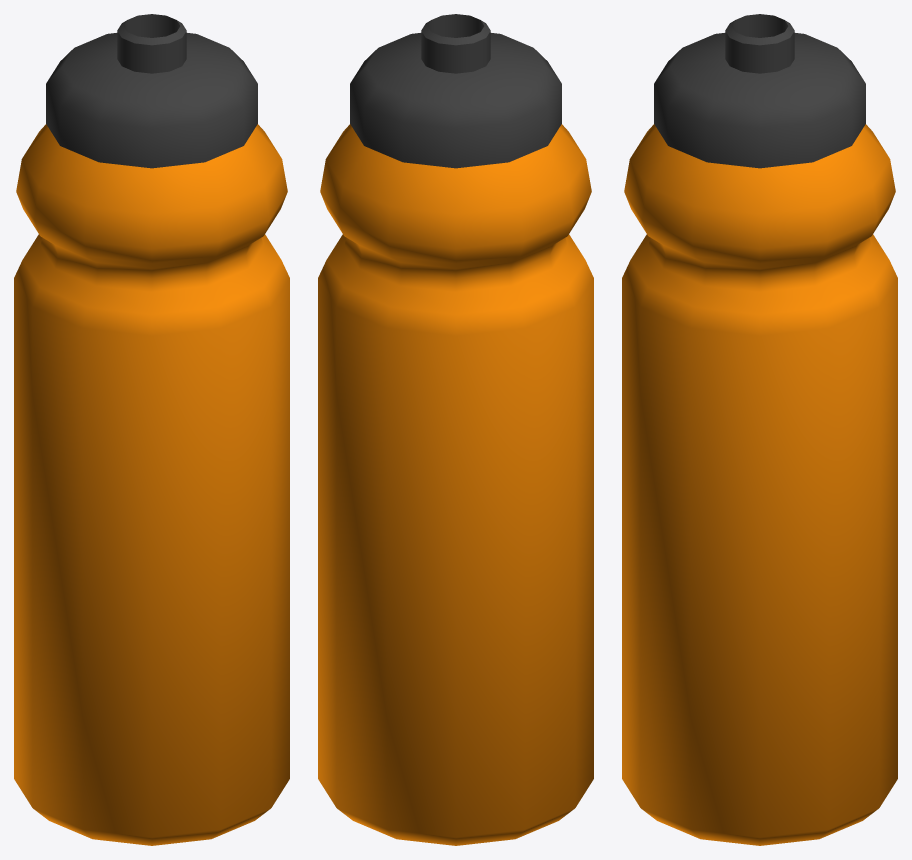
Rendered from Bottle05.fbx.
3 renders of one model, left to right at view 1: azimuth 30°, elevation 25°; view 2: azimuth 150°, elevation 25°; view 3: azimuth 270°, elevation 25°, orthographic.
Parts seen in each view (by area): view 1: Bottle05; view 2: Bottle05; view 3: Bottle05.
Boxes of the visible parts, x1,y1,x2,y2 form: Bottle05: [14, 14, 289, 845]; Bottle05: [318, 14, 593, 845]; Bottle05: [622, 14, 897, 845].
Bounding box in the file's own units: 7.26 × 7.26 × 22.38.
